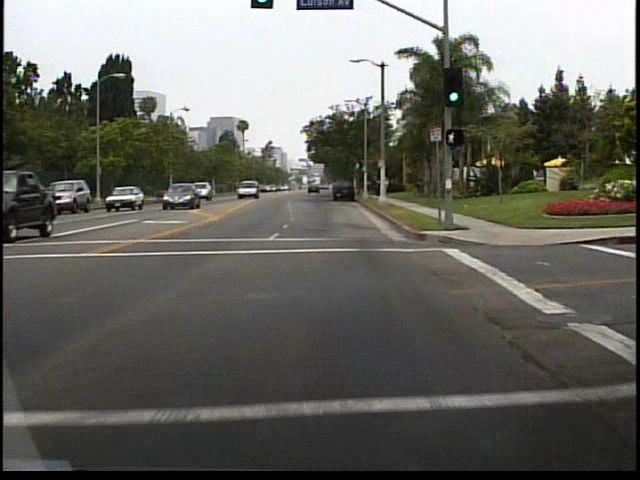person: (376, 176, 385, 201), (386, 174, 391, 197)
